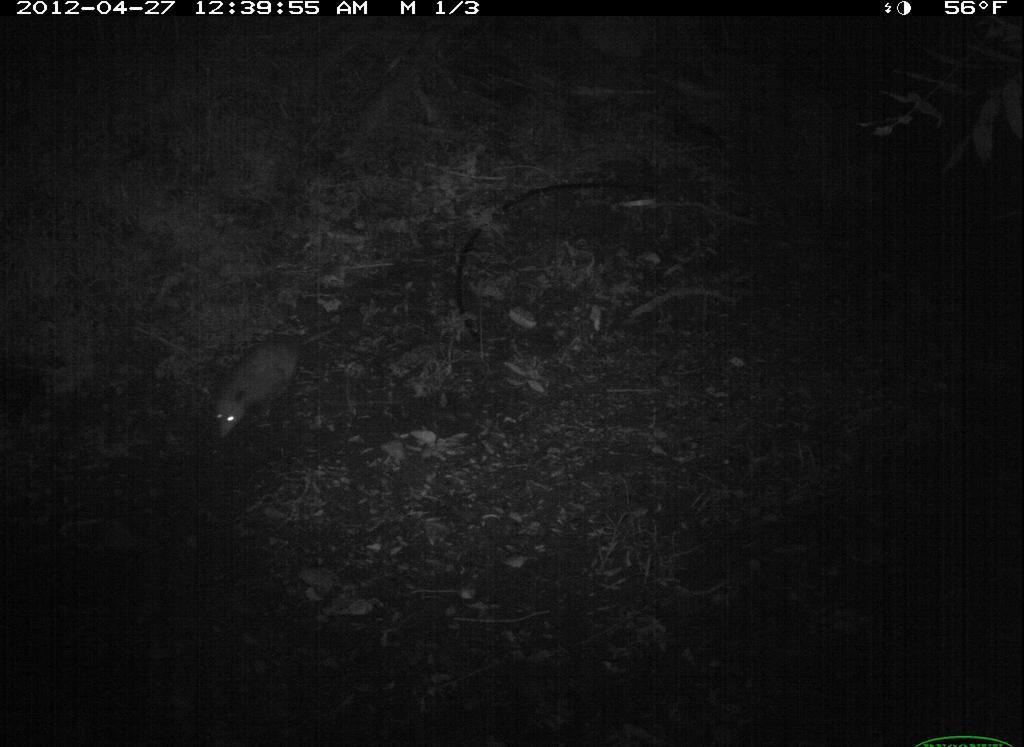opossum: (208, 322, 345, 450)
